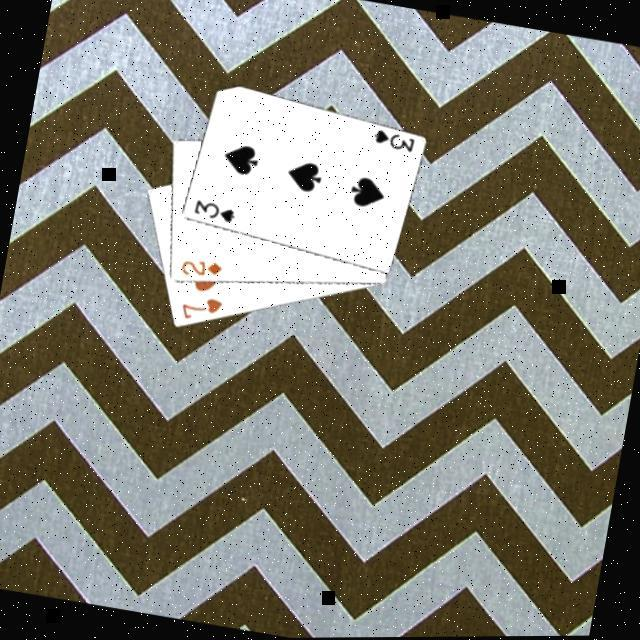2D: (177, 256, 227, 287)
3S: (190, 198, 240, 230), (370, 128, 419, 158)
7H: (176, 292, 228, 332)
